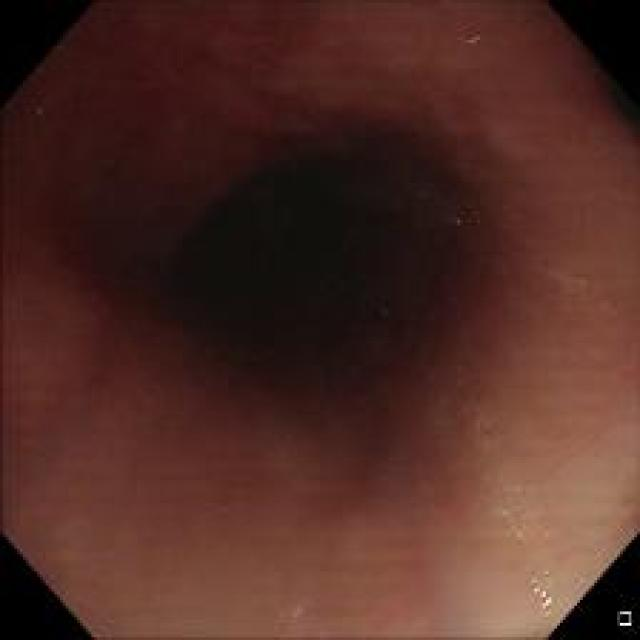color misalignment: (528, 565, 572, 625)
contrast: (8, 90, 494, 459)
